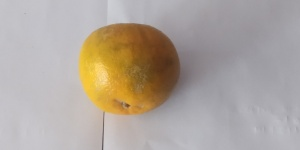BAD: (79, 22, 181, 118)
